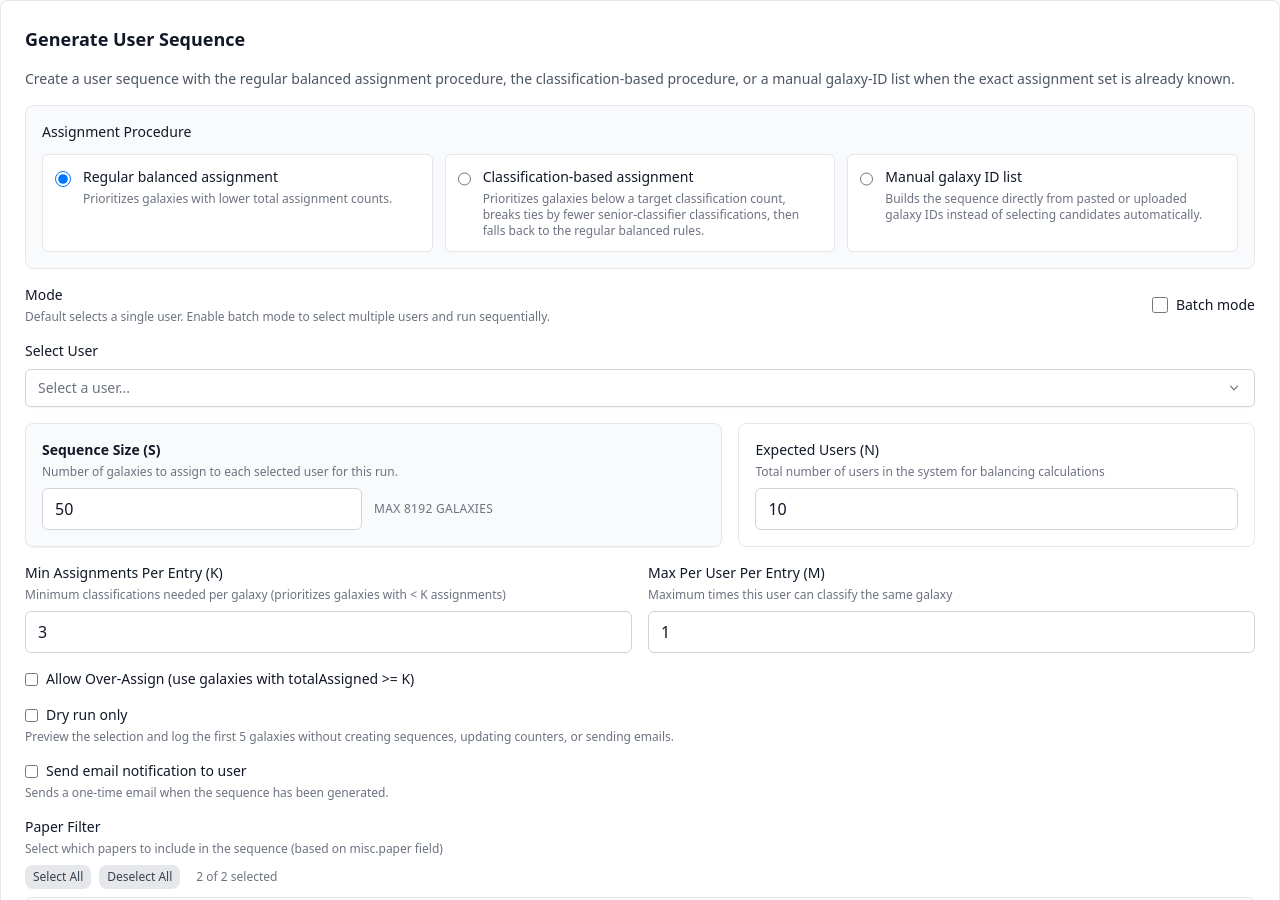
Test case: GenerateBalancedUserSequence › forwards dry-run classification-based generation and logs only the first five preview galaxies
The image size is (1280, 900).
What coordinates should you click on to do the following:
click the radio button labelled "Classification-based assignment"
I would click on:
 (464, 179)
Its box is 458,171 -> 471,187.
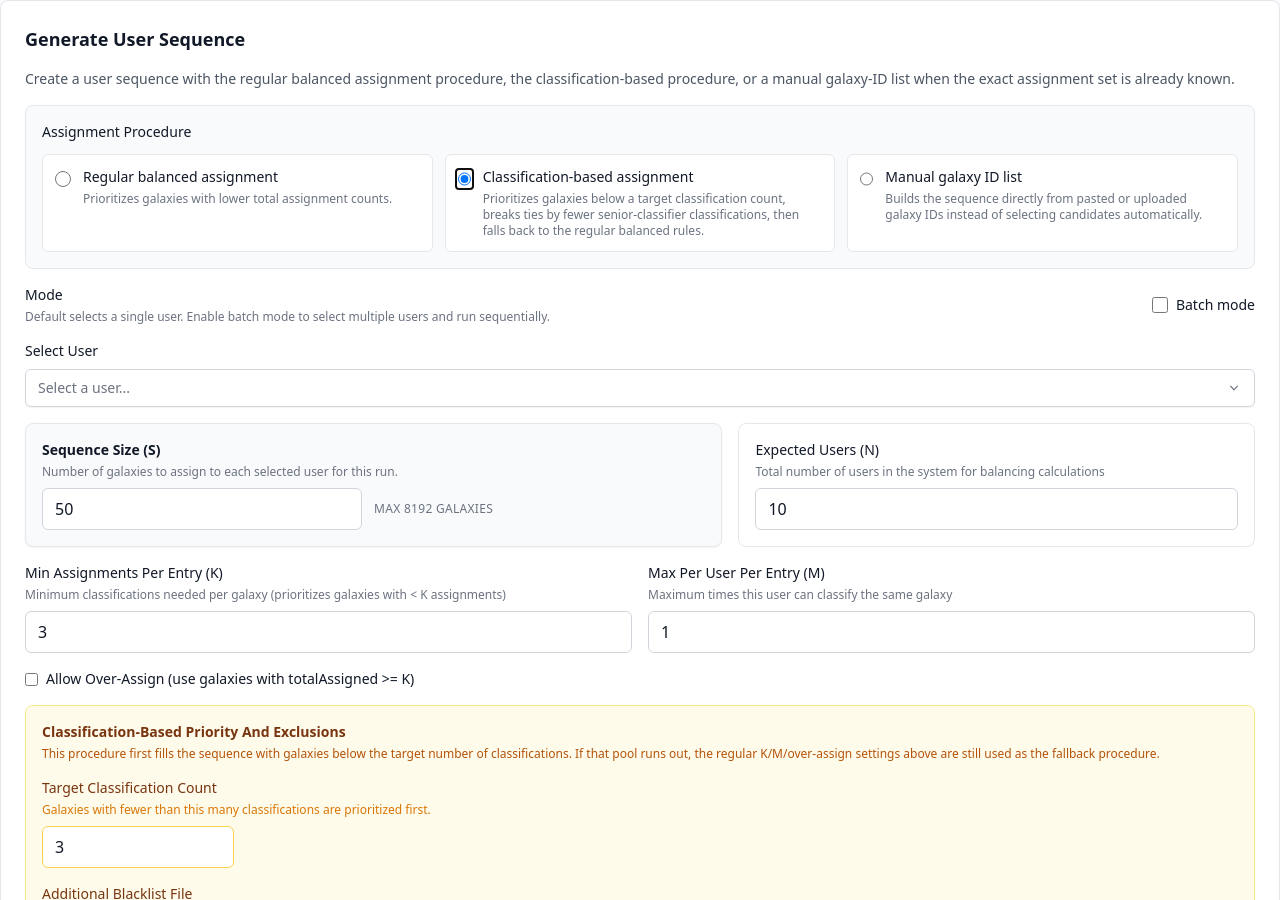
What coordinates should you click on to do the following:
click the button "Select a user..."
I would click on:
 (84, 388)
Its box is 25,369 -> 1255,407.
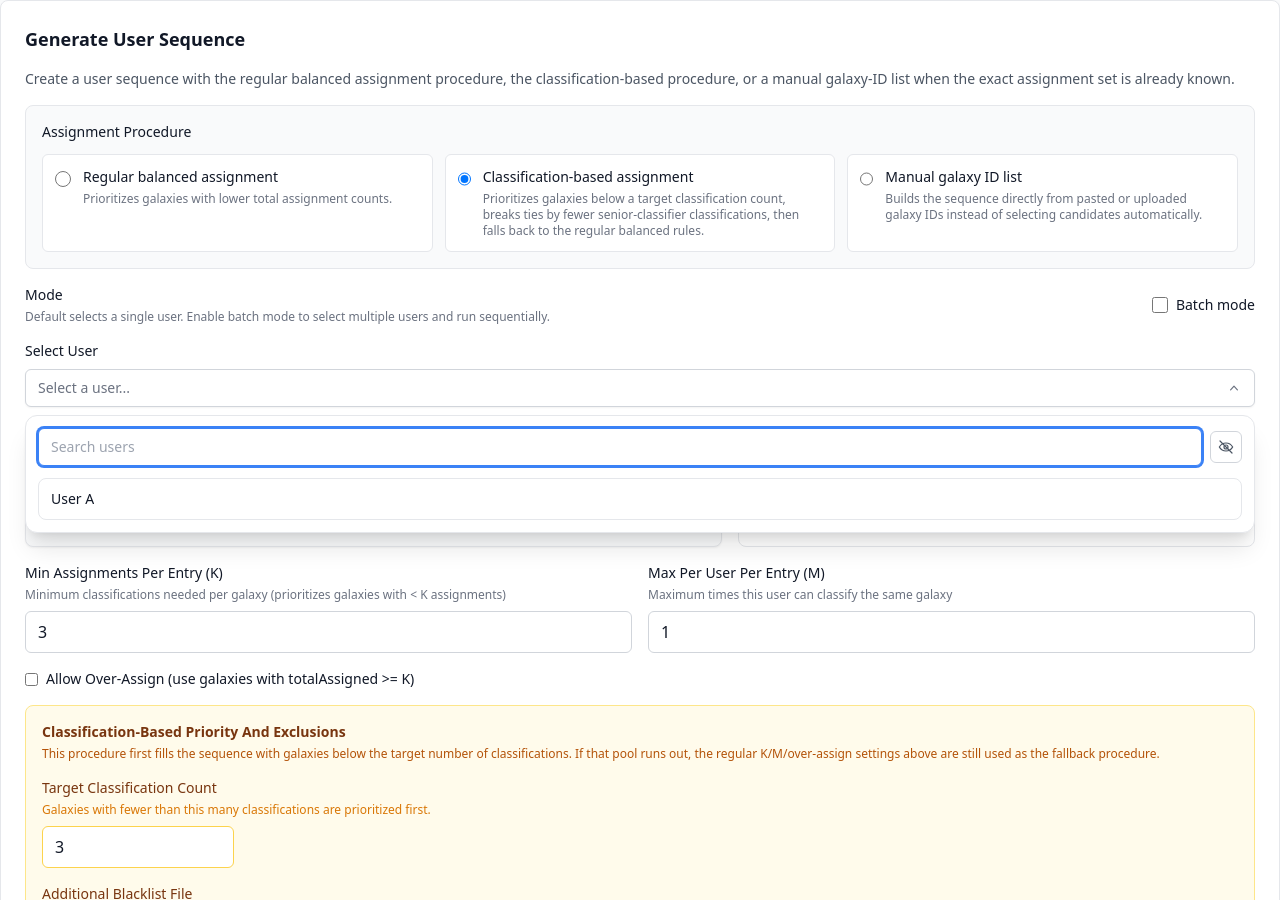
What coordinates should you click on to do the following:
click the option "User A"
I would click on:
 (73, 498)
Its box is 39,479 -> 1241,519.
(page scrolled)
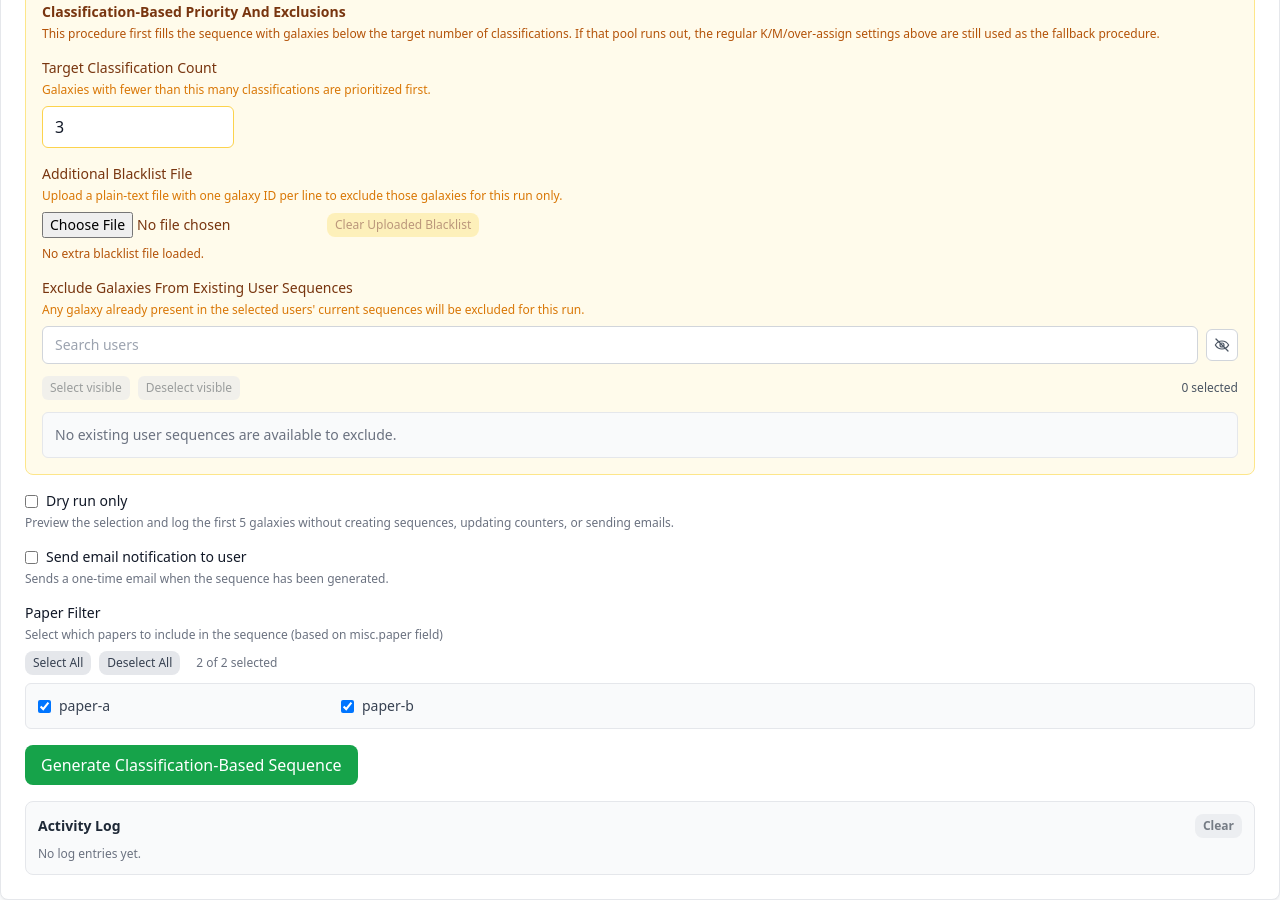
What coordinates should you click on to do the following:
click the checkbox labelled "Send email notification to user"
I would click on:
 (32, 557)
Its box is 25,550 -> 38,564.
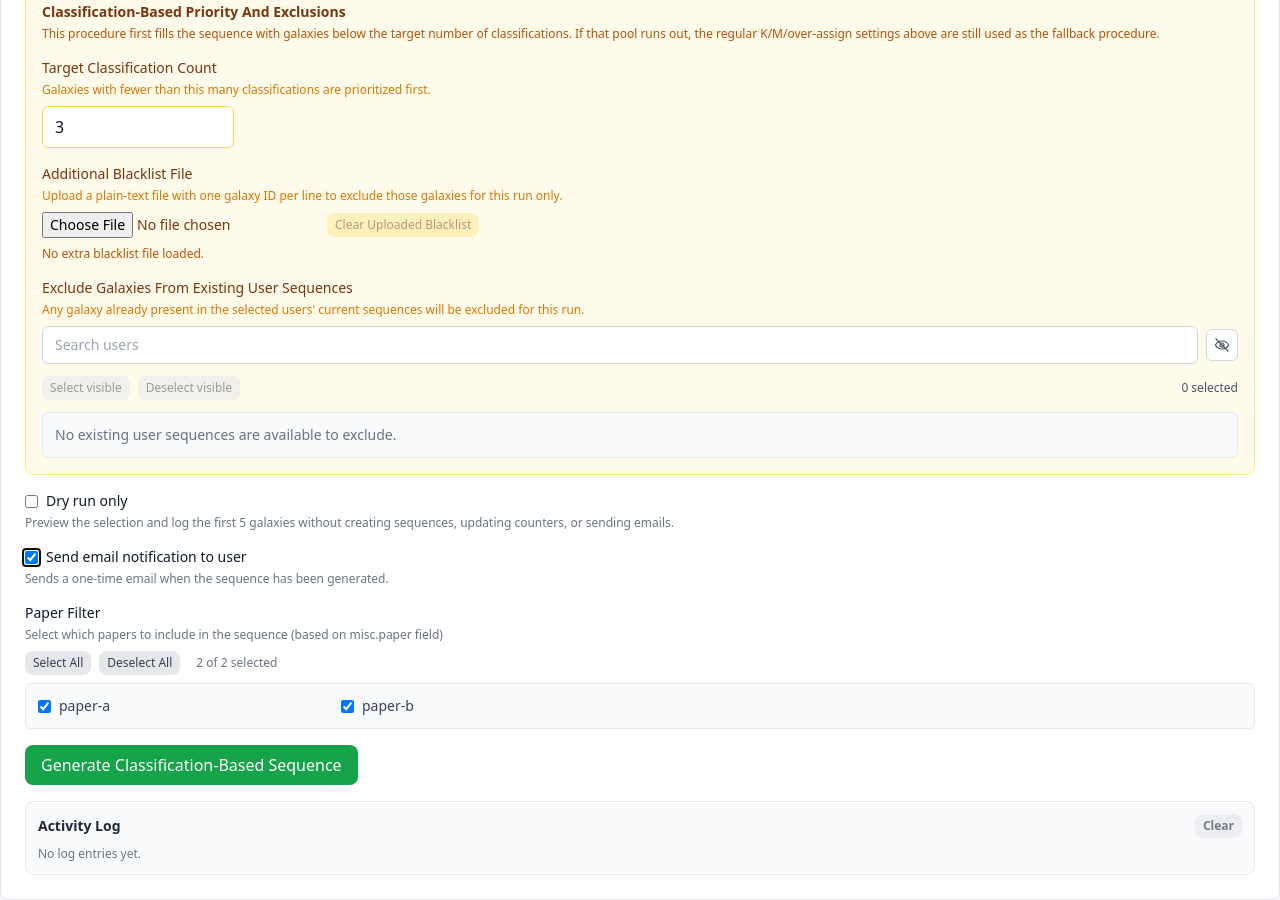
What coordinates should you click on to do the following:
click the checkbox labelled "Dry run only"
I would click on:
 (32, 501)
Its box is 25,494 -> 38,508.
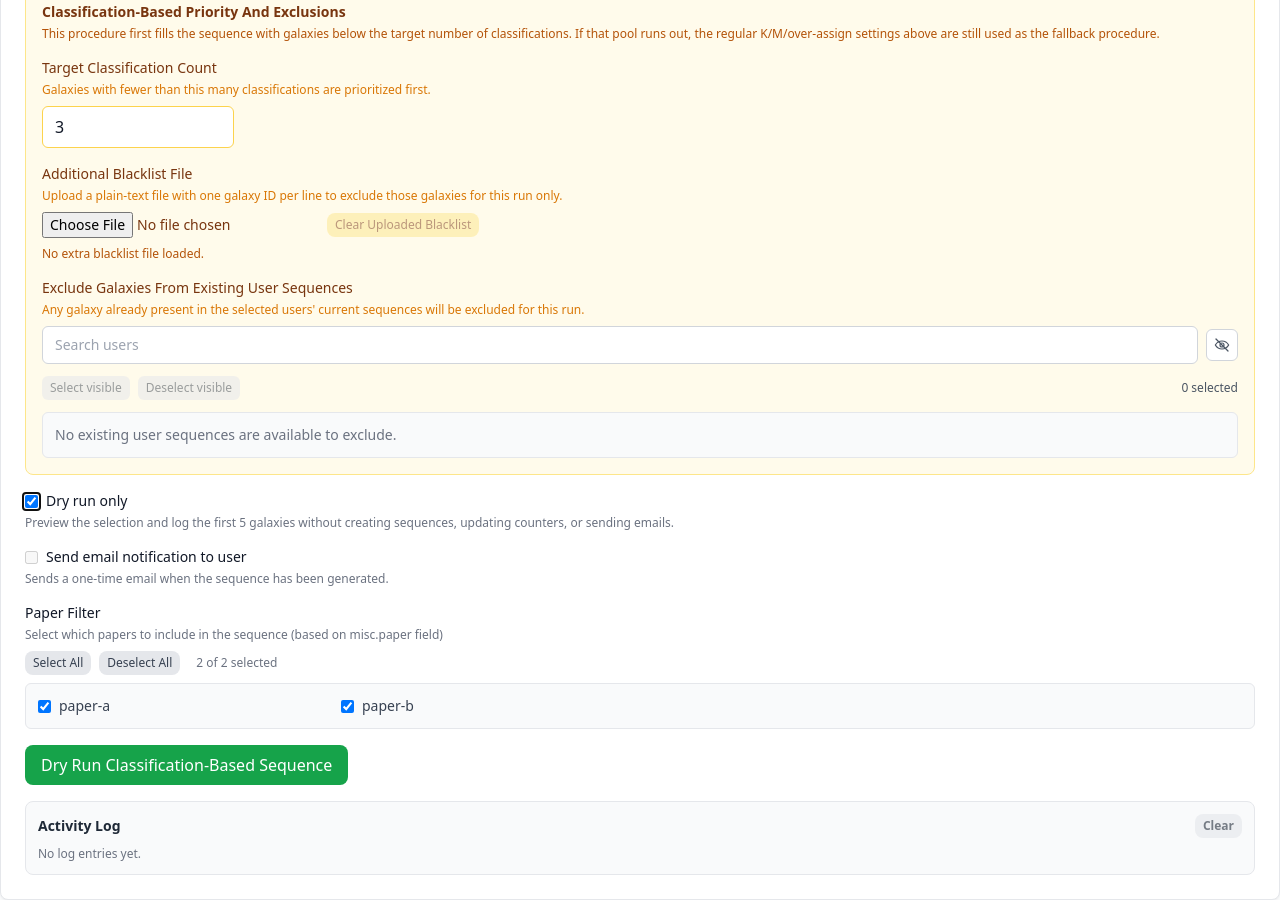
What coordinates should you click on to do the following:
click the button "Dry Run Classification-Based Sequence"
I would click on:
 (187, 765)
Its box is 25,745 -> 348,785.
(page scrolled)
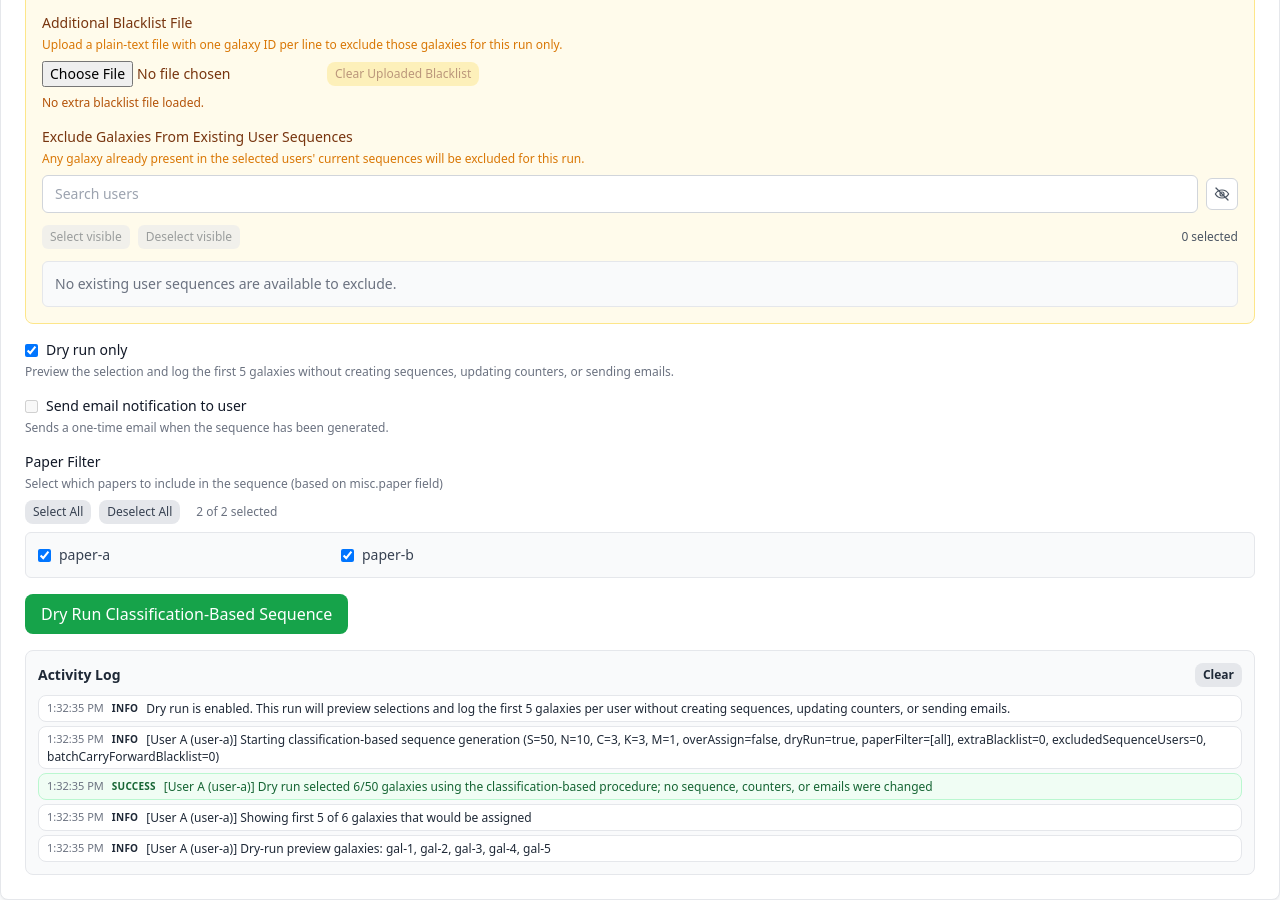
Check: the text "Showing first 5 of 6 galaxies that would be assigned" is shown, box 146,809 -> 532,826
Check: the text "Dry-run preview galaxies: gal-1, gal-2, gal-3, gal-4, gal-5" is shown, box 146,840 -> 551,857
